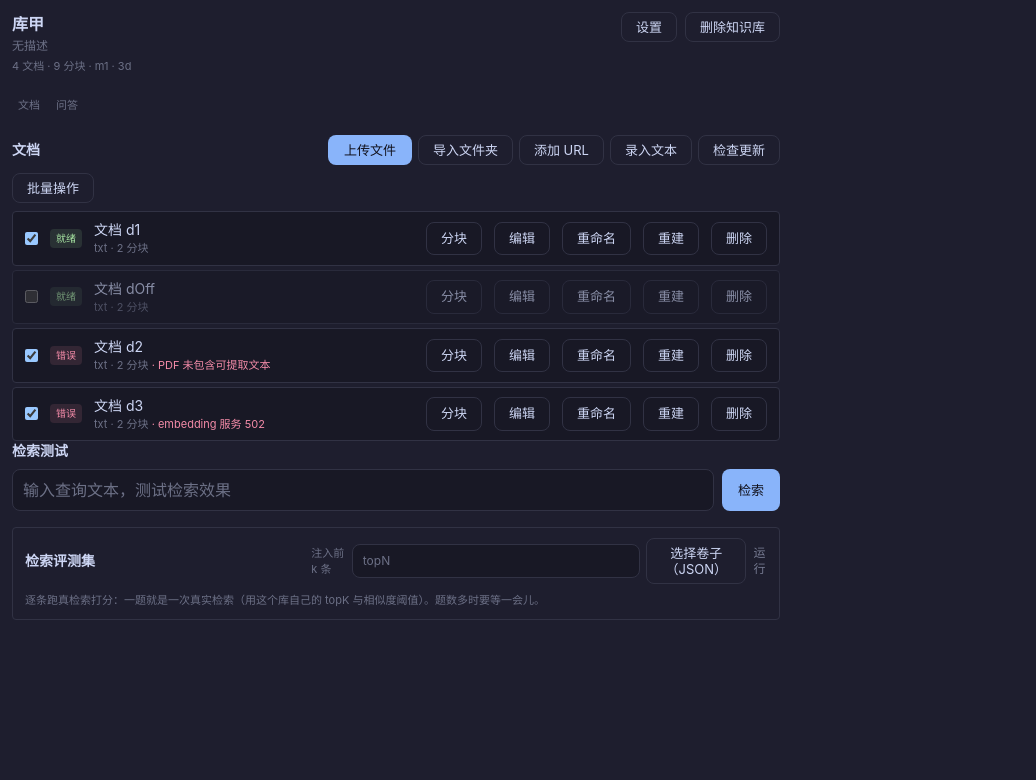
Test: safeHandle 的合同：失败是返回值，不是 reject › 添加文件通道失败（返回结构化失败）⇒ 要报错，不许当场崩或静默
expect the text "文档 d1" is shown: met, box [94, 221, 140, 238]
Click the button "上传文件": click(370, 150) [328, 135, 412, 165]
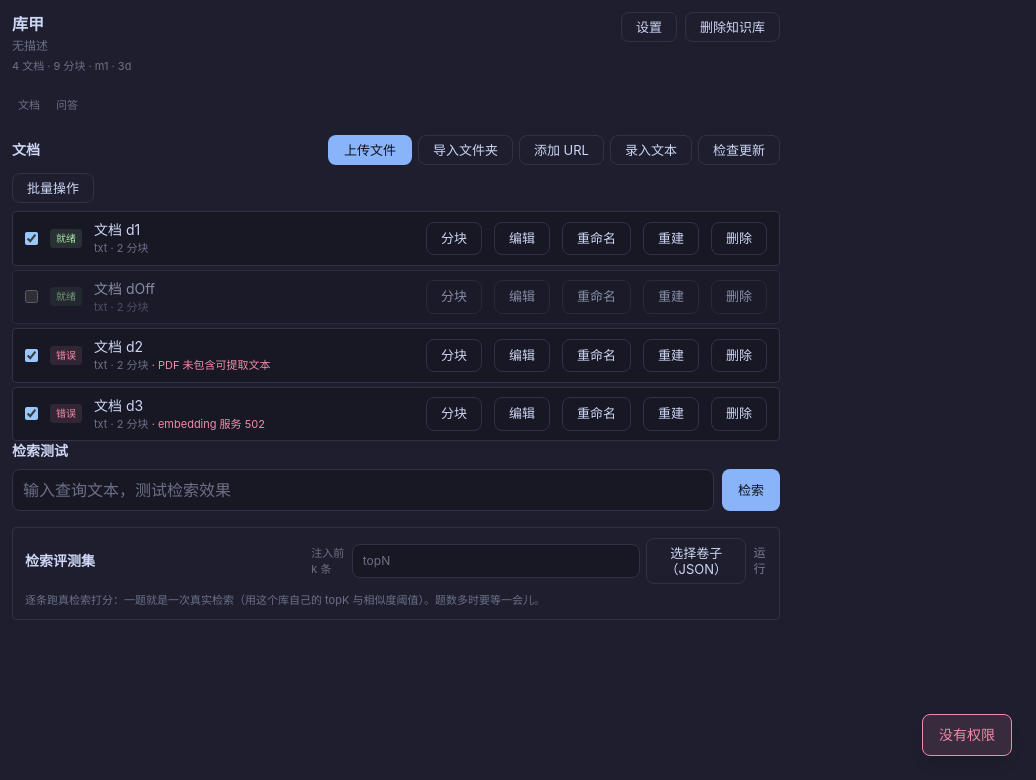
expect the text "没有权限" is shown: met, box [922, 714, 1012, 756]
